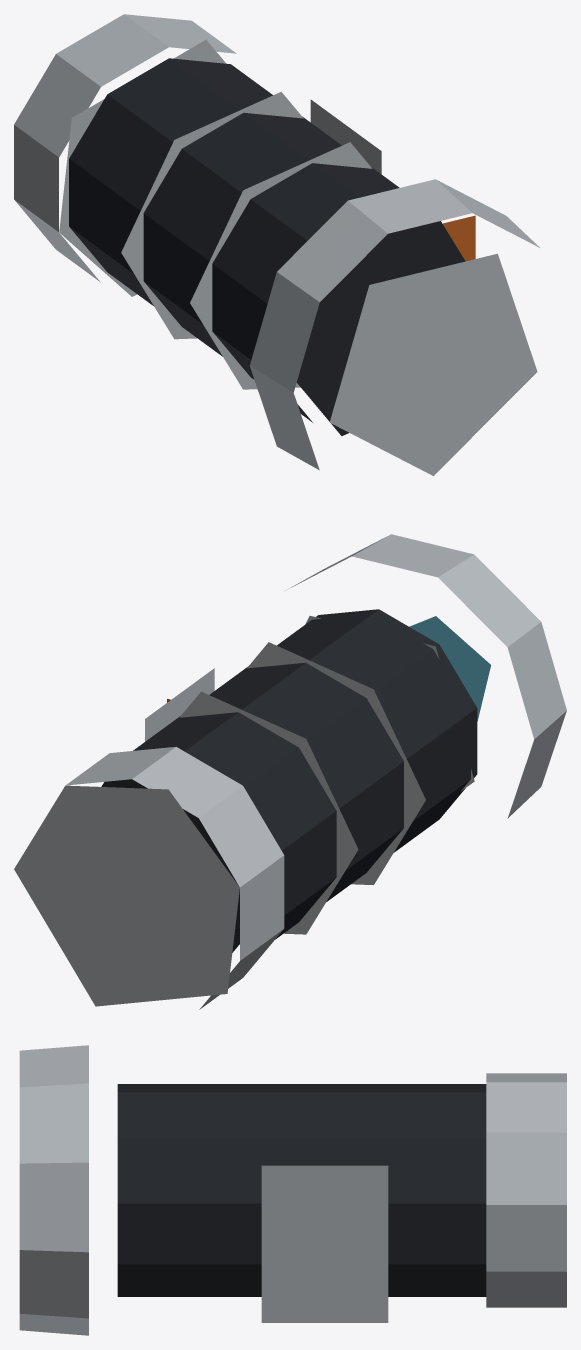
File: saber-shoto.lod.glb
The picture shows the model from 3 angles, top to bottom: view 1: azimuth 30°, elevation 25°; view 2: azimuth 150°, elevation 25°; view 3: azimuth 270°, elevation 25°; orthographic projection. The views are drawn at different scales.
Parts seen in each view (by area): view 1: m; view 2: m; view 3: m.
Boxes of the visible parts, left/top/right/bottom form: m: left=14, top=14, right=539, bottom=475; m: left=14, top=534, right=566, bottom=1009; m: left=19, top=1045, right=566, bottom=1335.
Bounding box in the file's own units: 0.0265 × 0.0252 × 0.05.
